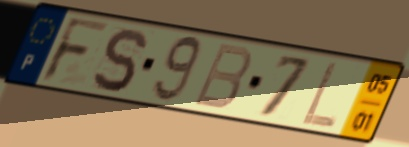7: (259, 53, 315, 121)
9: (149, 34, 204, 106)
B: (189, 41, 255, 112)
F: (37, 14, 114, 86)
L: (298, 59, 340, 131)
S: (90, 26, 149, 94)
